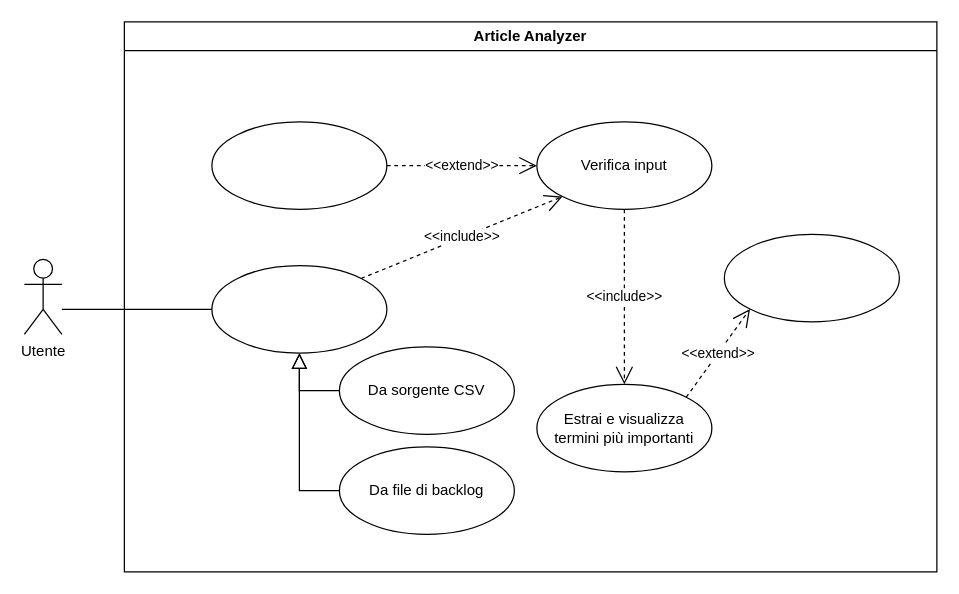
Some shapes in this 959 by 594 pixel diagram are drawn without their labels. Here are the shapes that lost their labels. From the top down, the centre of each, then its label:
At pixel 299 165: "Verifica presenza blacklist".
At pixel 811 277: "Salva i risultati".
At pixel 299 308: "Ricerca da file".
